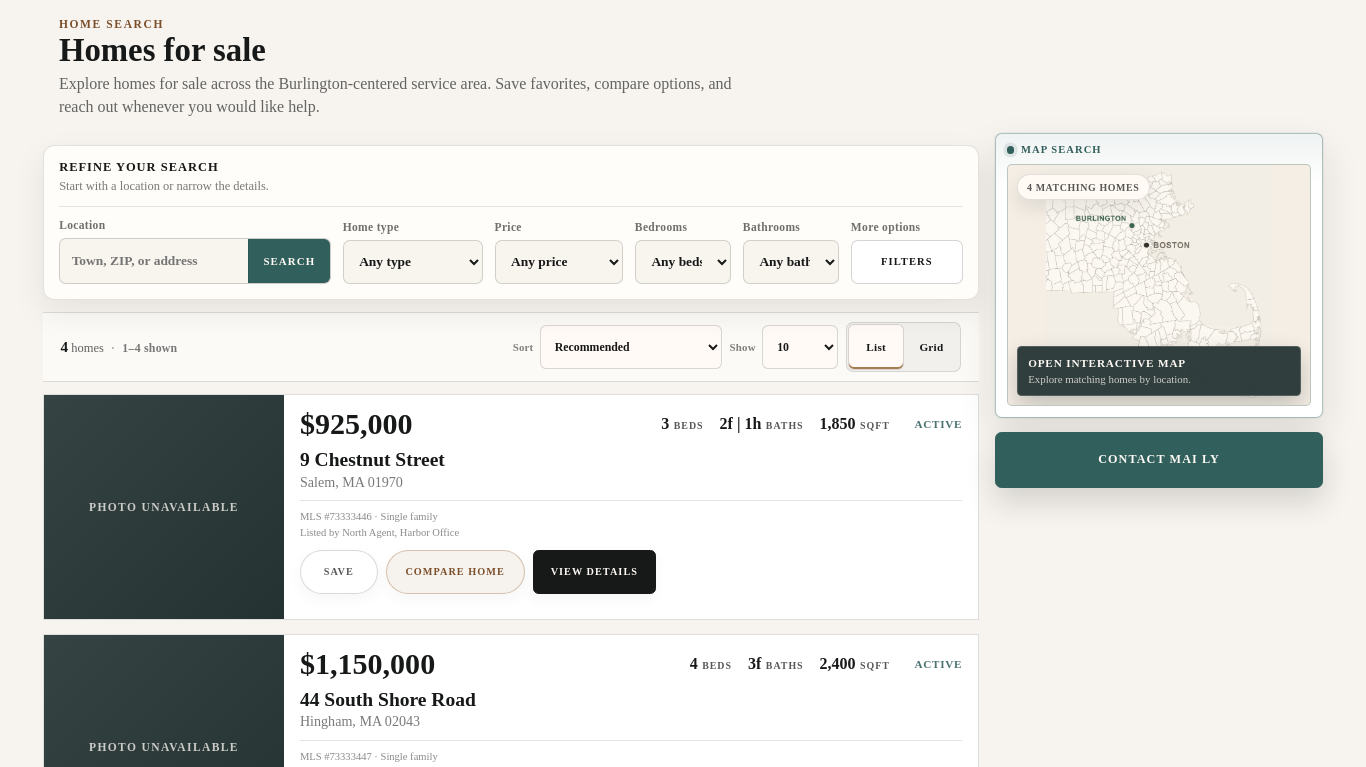
Test: PropertiesSearch › normalizes inverted bedroom and bathroom ranges instead of silently returning no homes
Click the button with aria-label "more filters" at (907, 262), box x1=851 y1=240 x2=963 y2=284
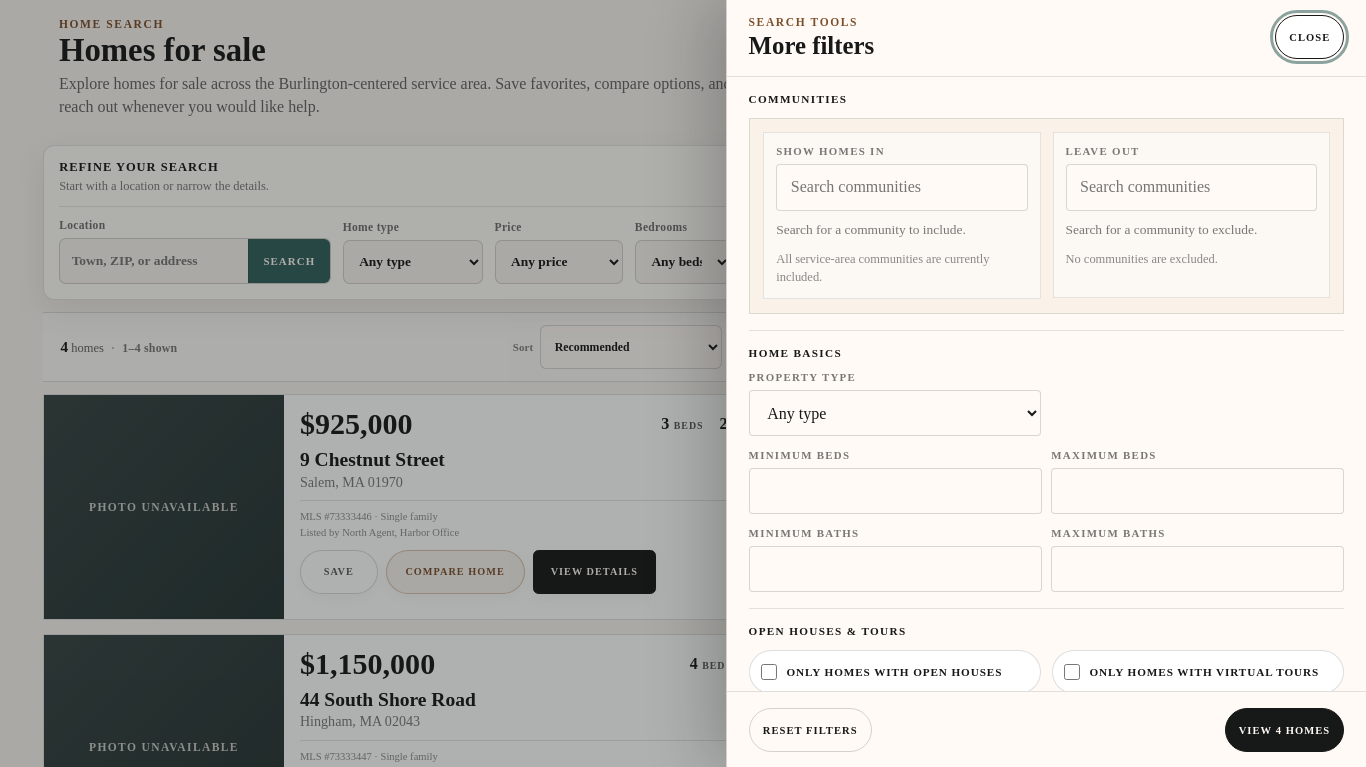
Type "3" into the number field named "home basics maximum beds" at (1198, 491), box x1=1051 y1=468 x2=1344 y2=514
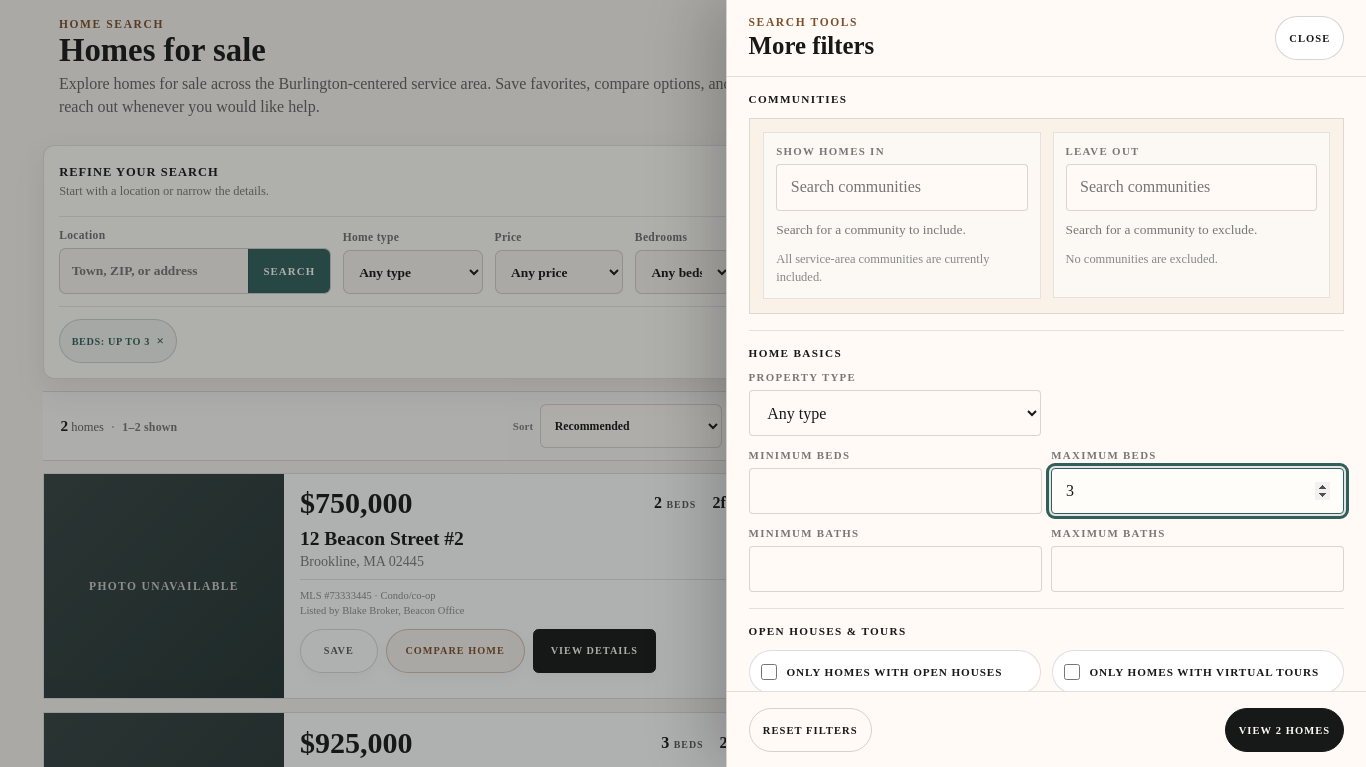
Type "4" into the number field named "home basics minimum beds" at (895, 491), box x1=749 y1=468 x2=1042 y2=514
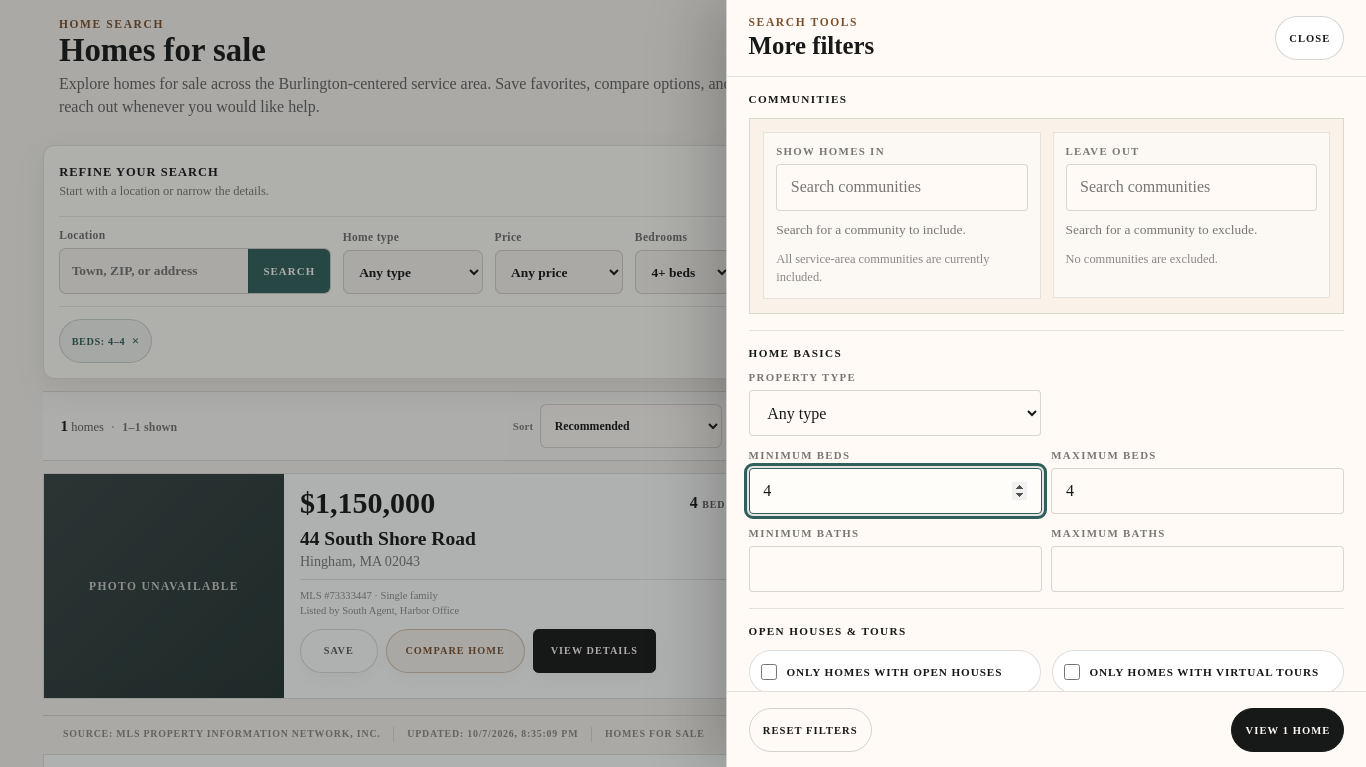
Expected: the number field named "home basics maximum beds" holds "4", x1=1051 y1=468 x2=1344 y2=514
Type "2" into the number field named "home basics maximum baths" at (1198, 569), box x1=1051 y1=546 x2=1344 y2=592
(page scrolled)
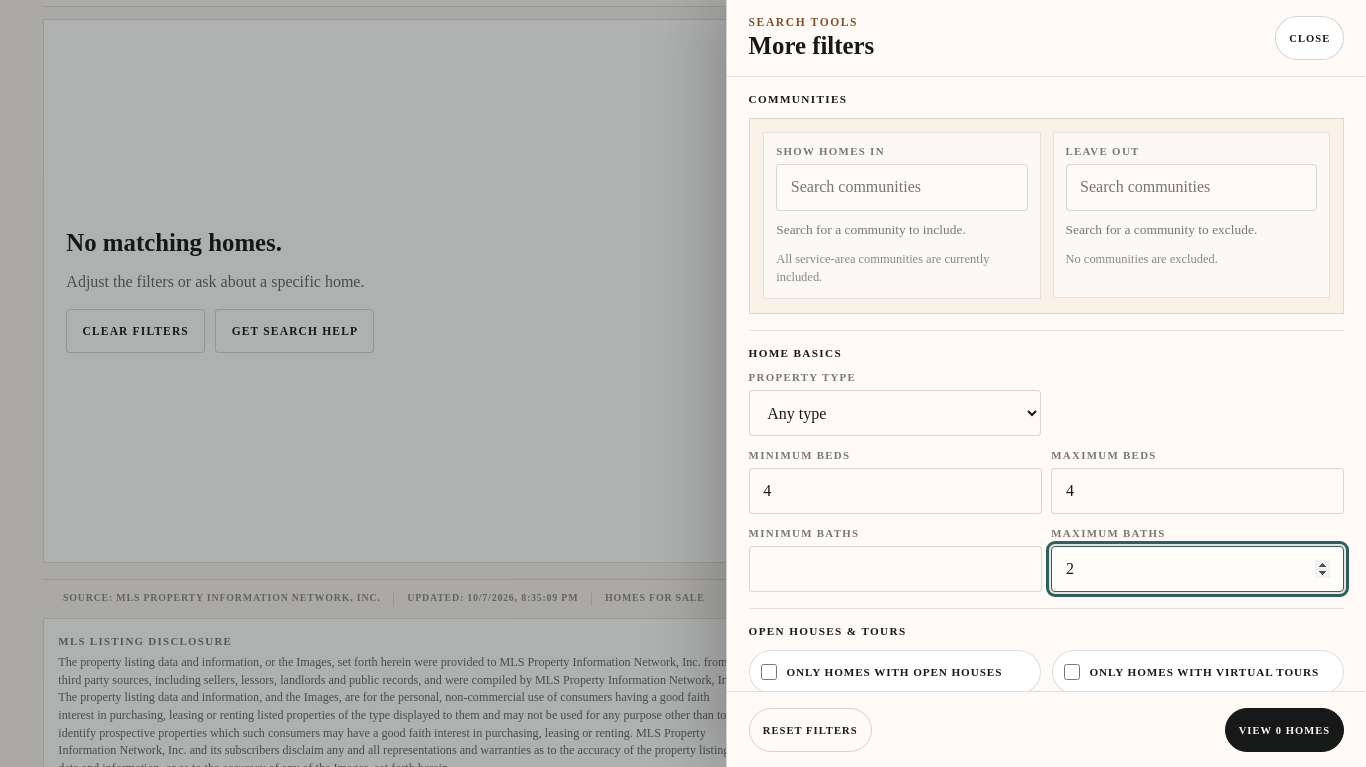
Type "3" into the number field named "home basics minimum baths" at (895, 569), box x1=749 y1=546 x2=1042 y2=592
(page scrolled)
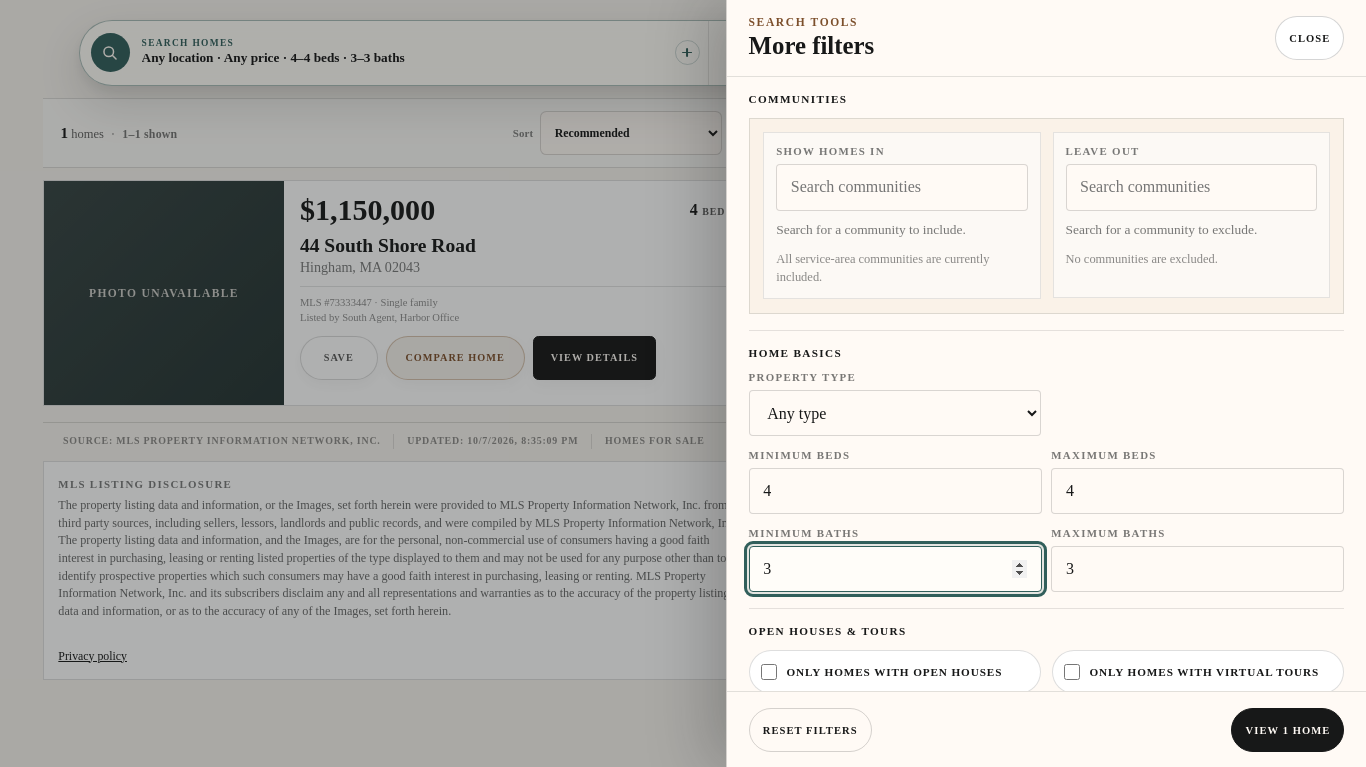
Expected: the number field named "home basics maximum baths" holds "3", x1=1051 y1=546 x2=1344 y2=592
